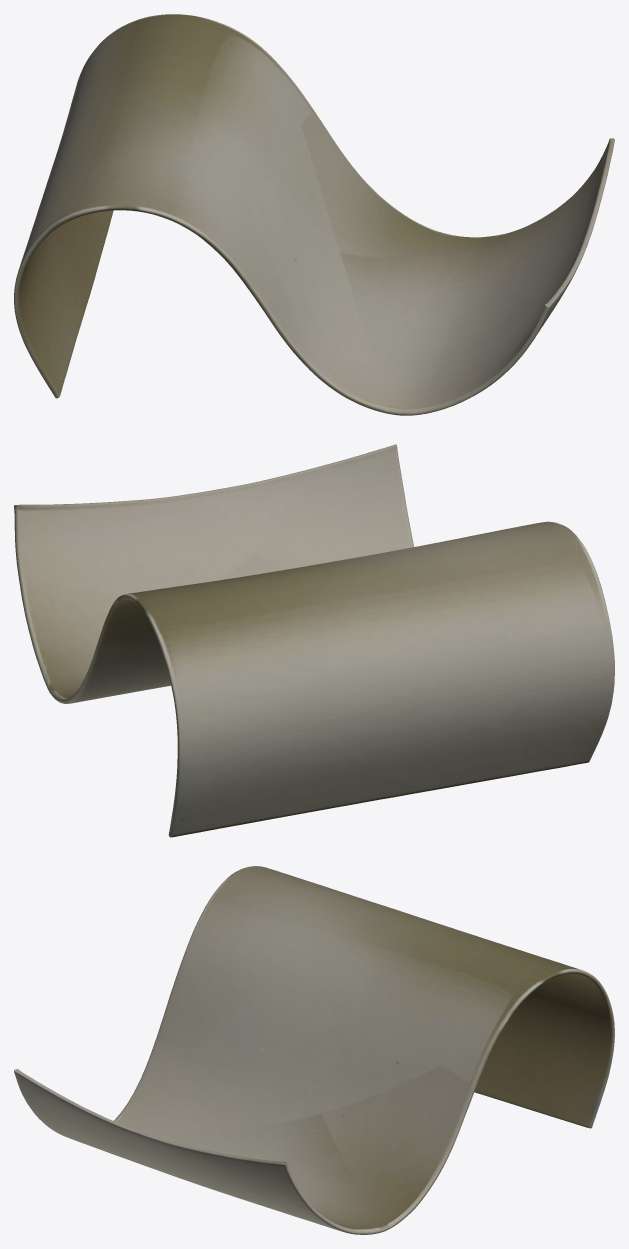
File: reciept.glb
3 views of the same model, one above another, from view 1: azimuth 30°, elevation 25°; view 2: azimuth 150°, elevation 25°; view 3: azimuth 270°, elevation 25° (orthographic). The views are drawn at different scales.
Visible parts, largest first — view 1: material; view 2: material; view 3: material.
Part boxes in pixels (bbox=[...]): material: bbox=[14, 14, 614, 415]; material: bbox=[14, 444, 614, 837]; material: bbox=[14, 866, 614, 1234].
Size of the model in its own units: 1.16 by 0.3783 by 1.16.
1 material, 1 textured.
